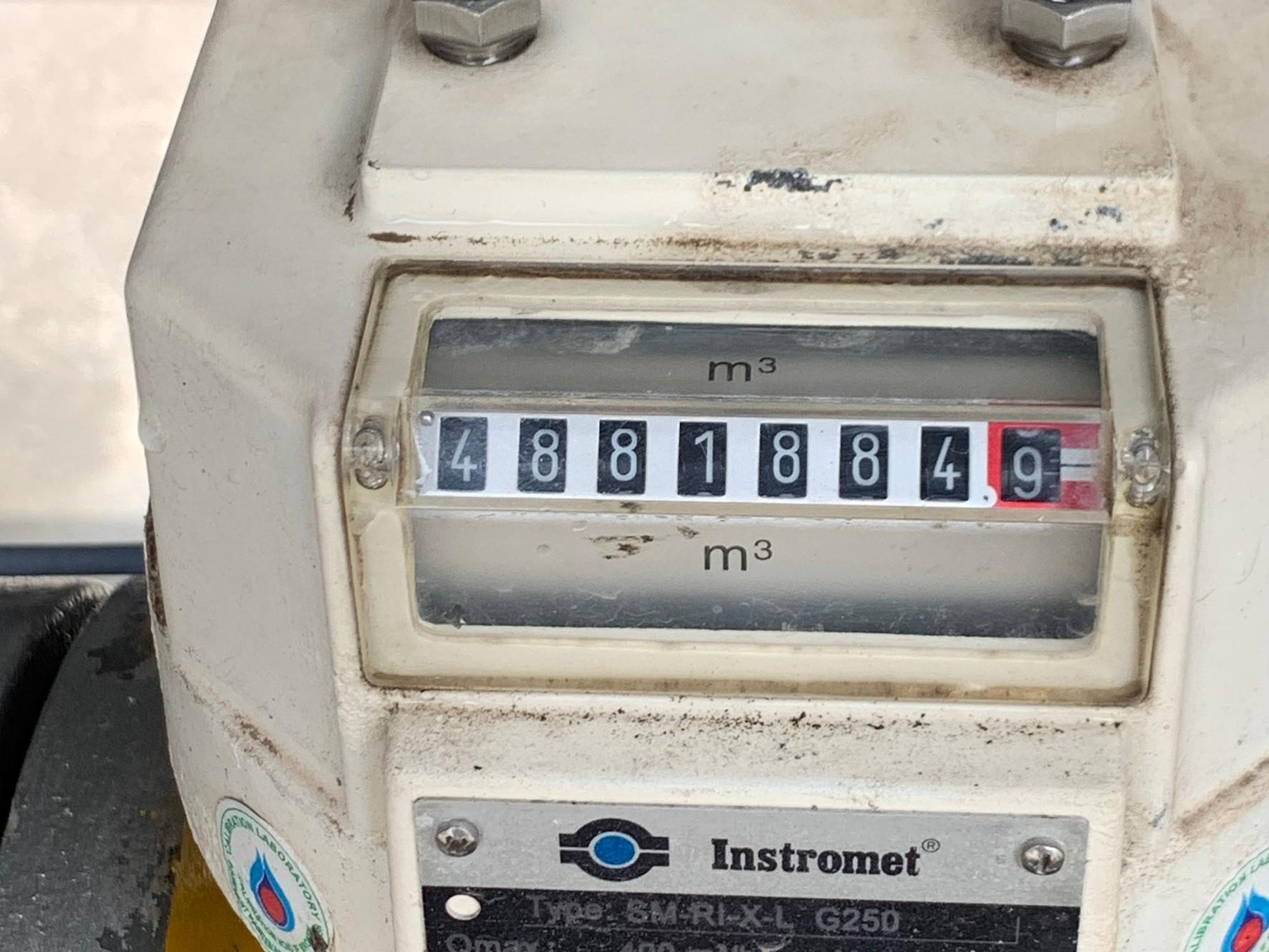analog_dial: (416, 408, 1106, 510)
